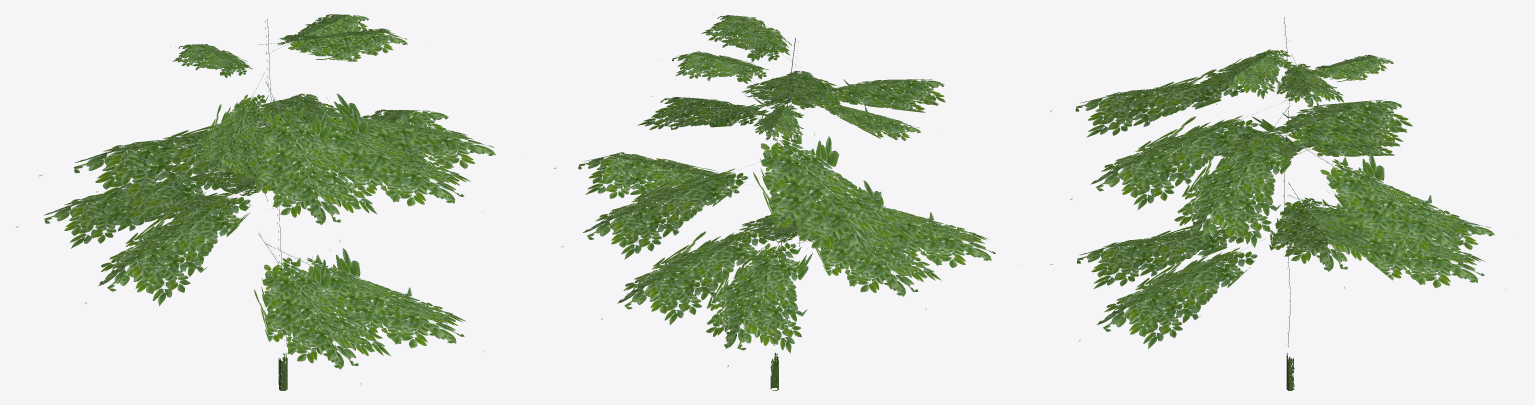
The model's file is hojas.fbx.
The picture shows the model from 3 angles, left to right: view 1: azimuth 30°, elevation 25°; view 2: azimuth 150°, elevation 25°; view 3: azimuth 270°, elevation 25°; orthographic projection. The views are drawn at different scales.
Parts seen in each view (by area): view 1: Cylinder.002, Cylinder.003, Cylinder.004, Cylinder.005, Cylinder.007, Cylinder.006, Cylinder; view 2: Cylinder.002, Cylinder.003, Cylinder.006, Cylinder.004, Cylinder.007, Cylinder.005, Cylinder; view 3: Cylinder.002, Cylinder.003, Cylinder.006, Cylinder.004, Cylinder.007, Cylinder.005, Cylinder.
Part boxes in pixels (x1,y1,x2,y2): Cylinder.002: (39, 79, 495, 351); Cylinder.003: (15, 72, 482, 385); Cylinder.004: (259, 28, 407, 61); Cylinder.005: (170, 44, 252, 77); Cylinder.007: (266, 14, 369, 54); Cylinder.006: (301, 109, 448, 169); Cylinder: (265, 19, 287, 390); Cylinder.002: (561, 74, 1017, 367); Cylinder.003: (601, 71, 941, 325); Cylinder.006: (554, 152, 739, 205); Cylinder.004: (701, 14, 791, 61); Cylinder.007: (658, 51, 768, 83); Cylinder.005: (753, 105, 803, 148); Cylinder: (770, 38, 798, 390); Cylinder.002: (1050, 69, 1494, 349); Cylinder.003: (1050, 68, 1484, 289); Cylinder.006: (1268, 182, 1384, 288); Cylinder.004: (1210, 49, 1295, 104); Cylinder.007: (1276, 55, 1344, 117); Cylinder.005: (1314, 54, 1393, 82); Cylinder: (1283, 17, 1294, 390).
Size of what is drawn, in the model's own units: 641 by 525 by 617.
Materials: 1 (1 with a texture image).
